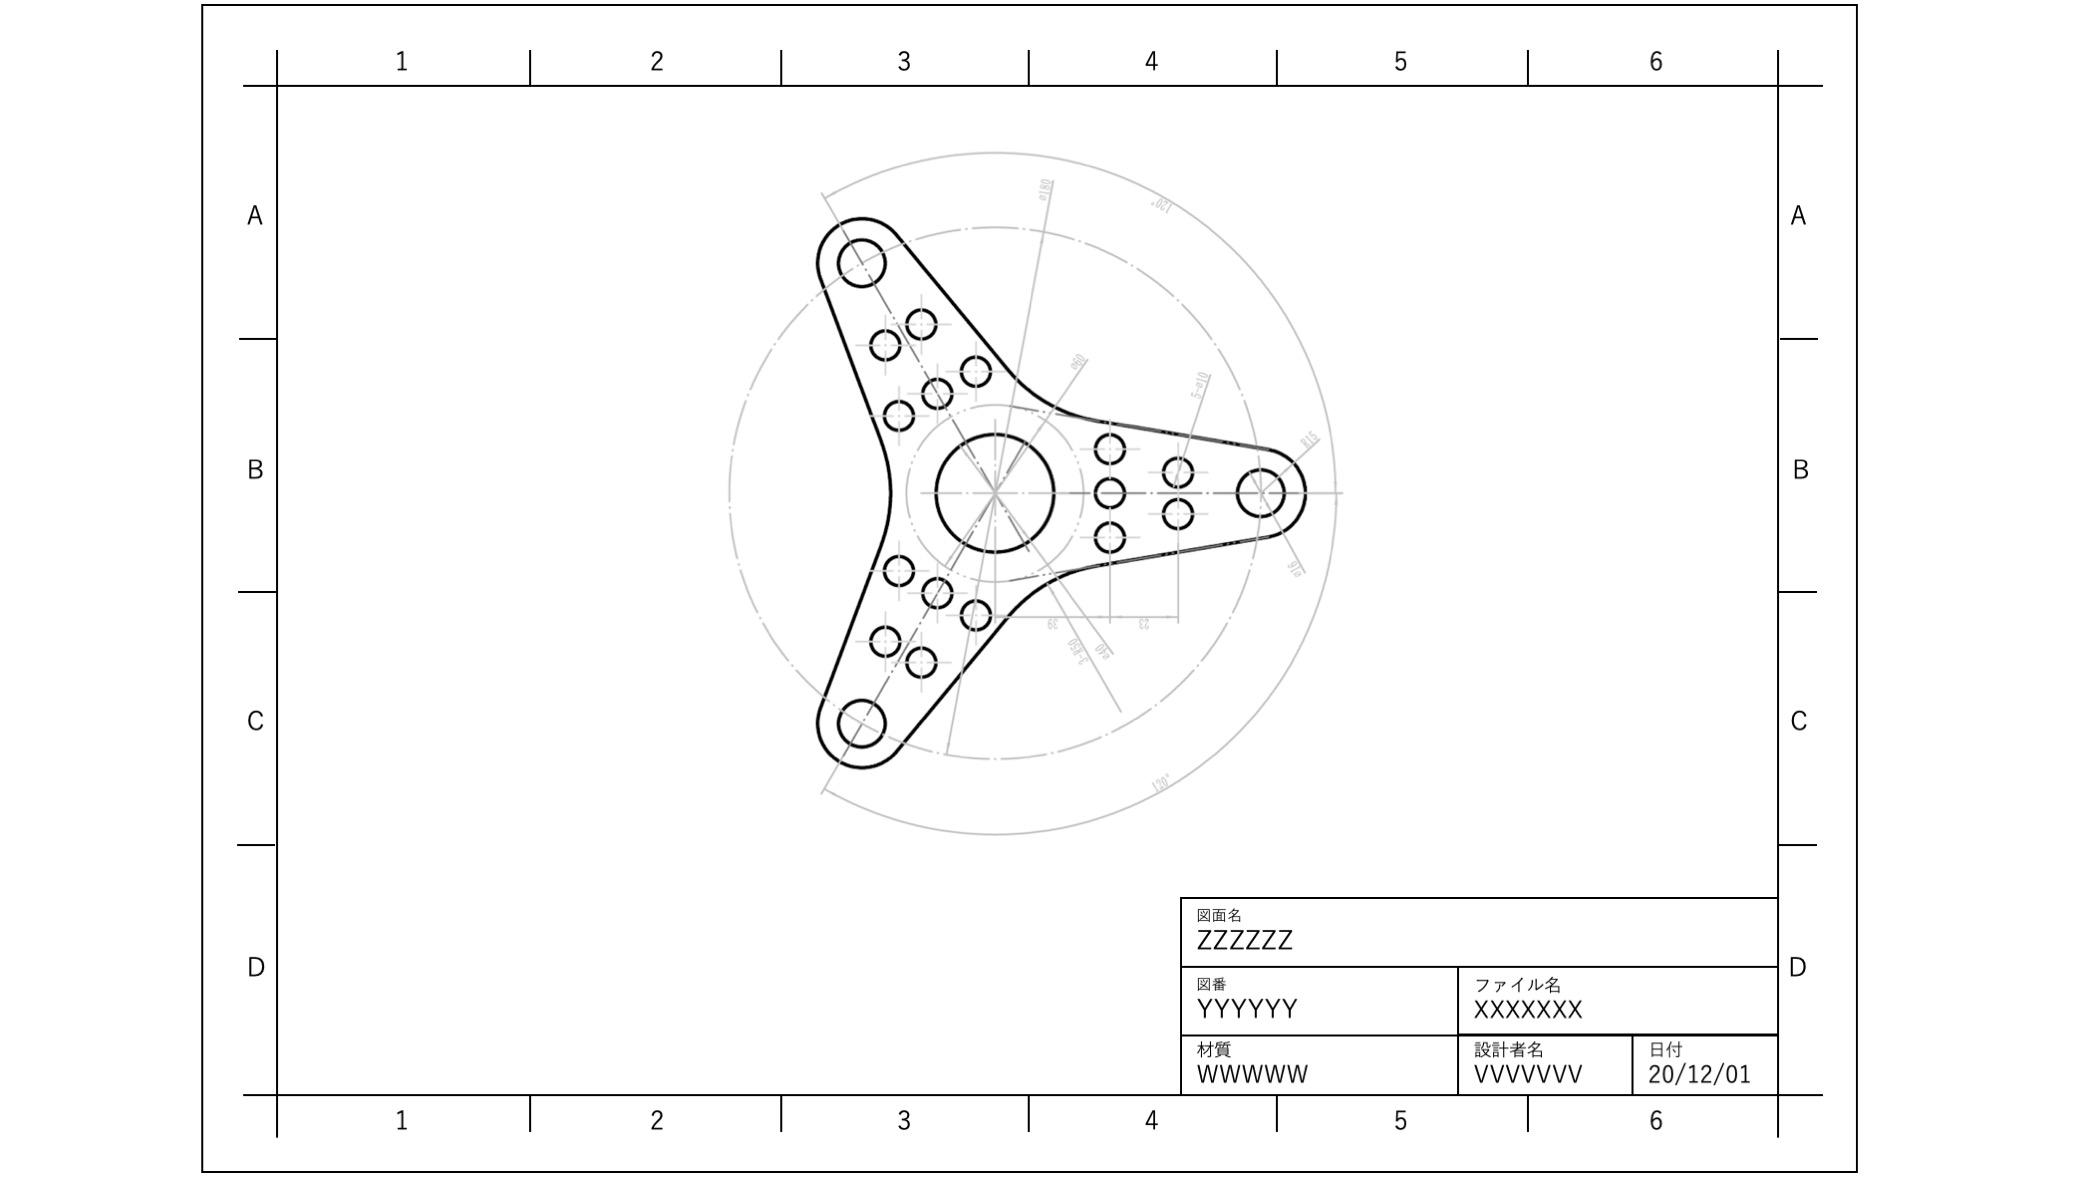circle: (927, 434, 1063, 554), (1235, 453, 1289, 519), (835, 232, 888, 293), (835, 692, 891, 748), (955, 346, 995, 397), (916, 564, 955, 614), (901, 296, 940, 345), (901, 634, 942, 681), (959, 585, 994, 637), (1090, 423, 1129, 469), (881, 545, 914, 596), (867, 320, 901, 368), (867, 614, 901, 662), (917, 373, 958, 412), (1160, 448, 1194, 493), (1155, 493, 1194, 532), (878, 394, 914, 435), (1090, 510, 1125, 552), (1087, 474, 1126, 506)
